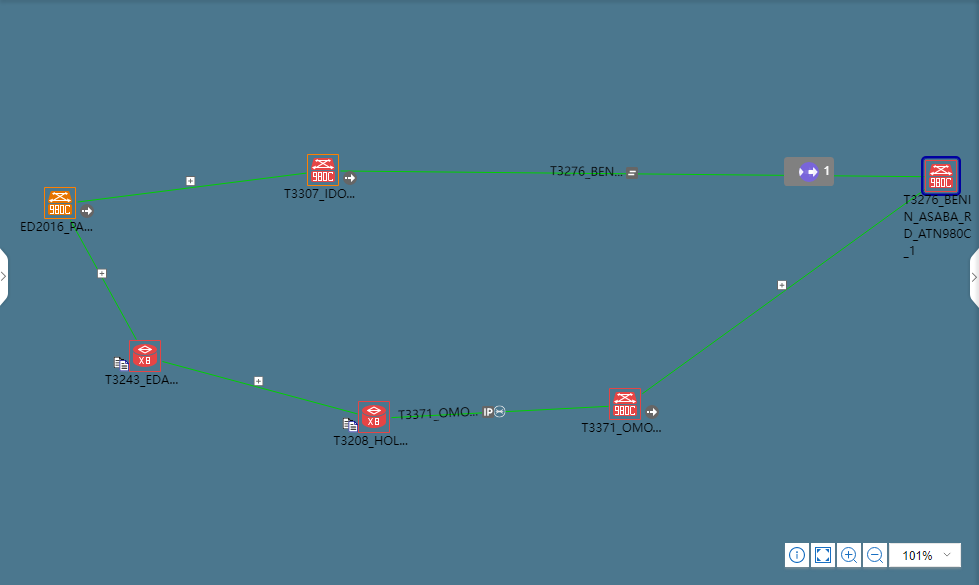ATN_Orange: (46, 192, 75, 221)
ATN_Red: (609, 387, 644, 423), (309, 155, 337, 190), (927, 161, 955, 190)
Link_Green: (646, 192, 919, 390), (162, 357, 363, 415), (70, 222, 142, 343), (76, 173, 283, 208), (389, 406, 566, 423), (389, 167, 754, 175), (869, 173, 925, 184)
Router_Red: (358, 406, 393, 435), (132, 338, 159, 374)
